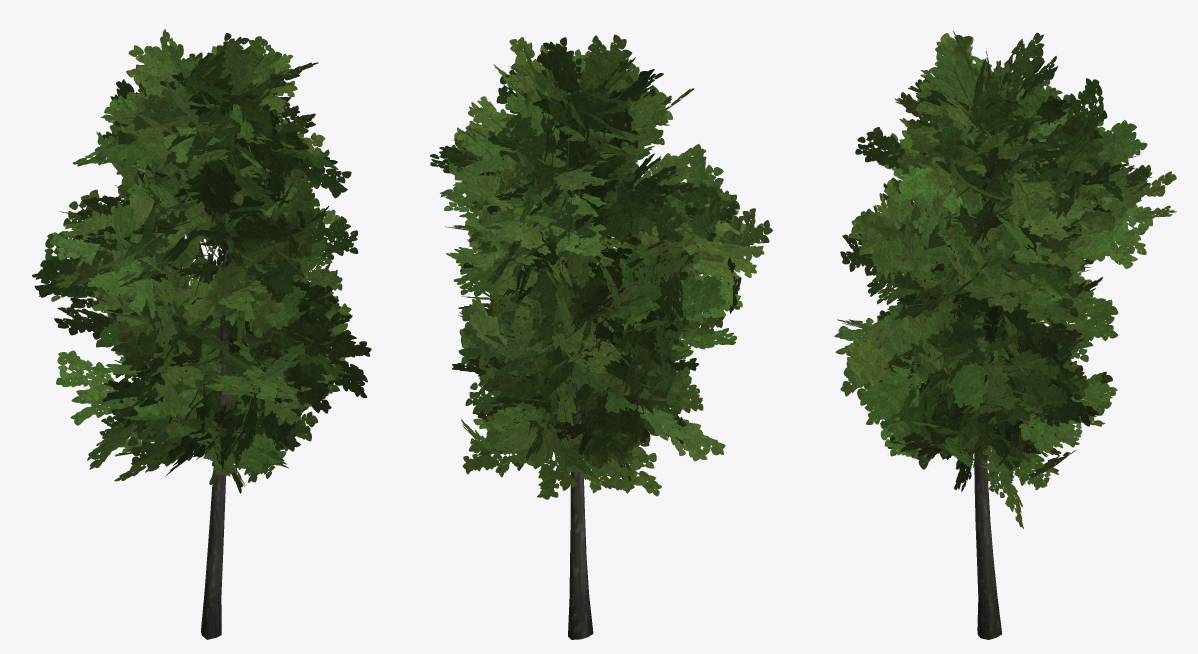
The model's file is olse_mlada.glb.
3 renders of one model, left to right at view 1: azimuth 30°, elevation 25°; view 2: azimuth 150°, elevation 25°; view 3: azimuth 270°, elevation 25°, orthographic.
Visible parts, largest first — view 1: olse_mlada; view 2: olse_mlada; view 3: olse_mlada.
Boxes of the visible parts, x1,y1,x2,y2 form: olse_mlada: [32, 29, 371, 639]; olse_mlada: [430, 34, 772, 639]; olse_mlada: [834, 30, 1176, 639].
Size of the model in its own units: 4.19 by 7.69 by 4.15.
2 materials, 2 textured.
